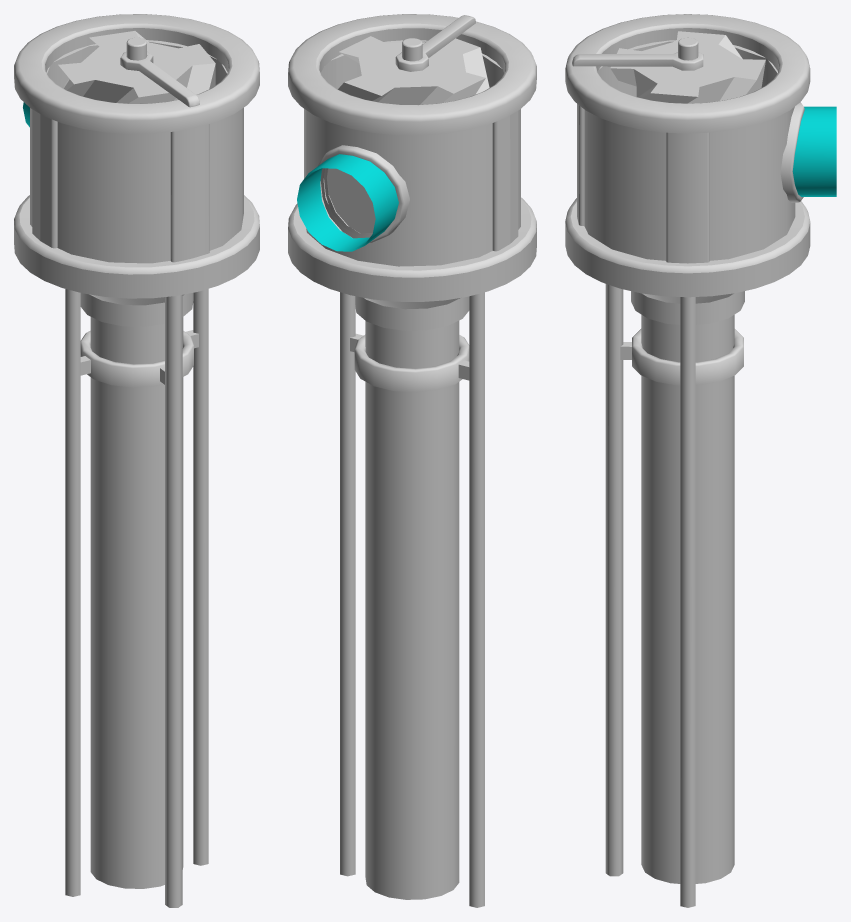
Rendered from PumpDefaultInternalVariant.gltf.
3 renders of one model, left to right at view 1: azimuth 30°, elevation 25°; view 2: azimuth 150°, elevation 25°; view 3: azimuth 270°, elevation 25°, orthographic.
Parts seen in each view (by area): view 1: PumpSolid, PumpGlas, PumpRotate; view 2: PumpGlas, PumpSolid, PumpRotate; view 3: PumpGlas, PumpSolid, PumpRotate.
Part boxes in pixels (x1,y1,x2,y2): PumpSolid: (14, 14, 259, 907); PumpGlas: (30, 42, 243, 888); PumpRotate: (58, 31, 215, 103); PumpGlas: (304, 41, 520, 899); PumpSolid: (288, 14, 536, 907); PumpRotate: (338, 36, 489, 104); PumpGlas: (584, 42, 795, 883); PumpSolid: (565, 14, 836, 907); PumpRotate: (610, 31, 765, 103).
Bounding box in the file's own units: 0.7795 × 2.92 × 0.8632.
